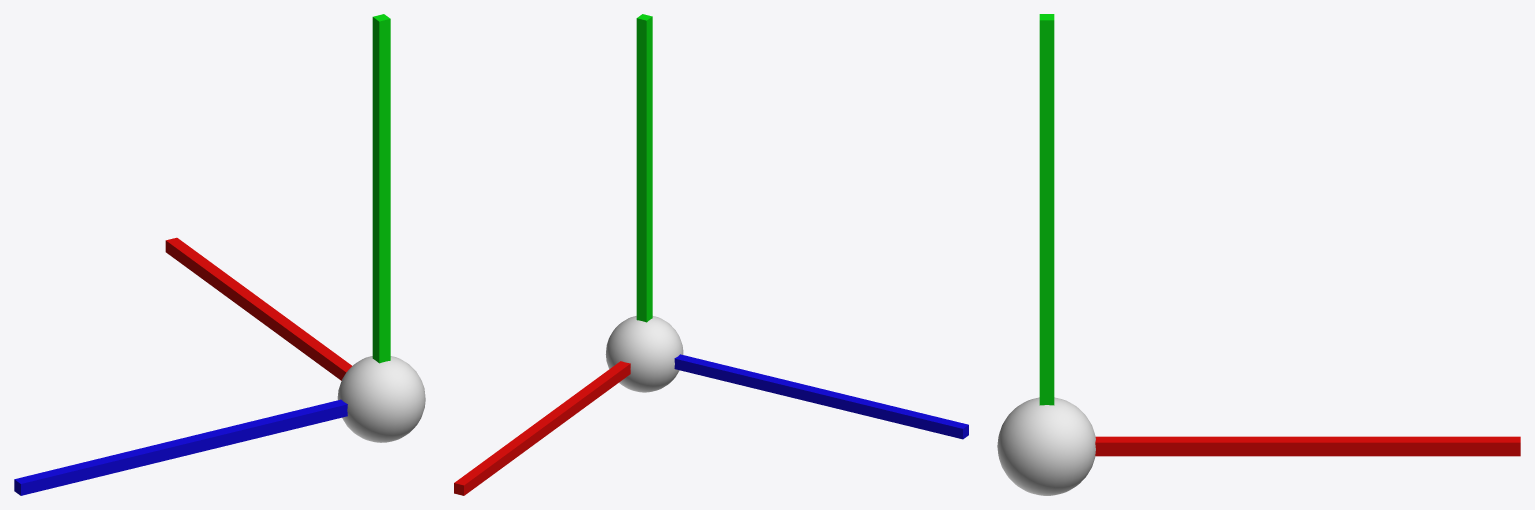
Rendered from visdiorama2.fbx.
3 renders of one model, left to right at view 1: azimuth 30°, elevation 25°; view 2: azimuth 150°, elevation 25°; view 3: azimuth 270°, elevation 25°, orthographic. The views are drawn at different scales.
Visible parts, largest first — view 1: Y-Axis, Z-Axis, Sphere, X-Axis; view 2: Y-Axis, Z-Axis, Sphere, X-Axis; view 3: X-Axis, Sphere, Y-Axis.
Part boxes in pixels (x1=…): Y-Axis: x1=372, y1=14, x2=390, y2=363; Z-Axis: x1=14, y1=399, x2=347, y2=495; Sphere: x1=337, y1=356, x2=425, y2=442; X-Axis: x1=165, y1=237, x2=351, y2=380; Y-Axis: x1=636, y1=14, x2=652, y2=322; Z-Axis: x1=674, y1=354, x2=968, y2=439; Sphere: x1=605, y1=316, x2=683, y2=392; X-Axis: x1=454, y1=361, x2=630, y2=495; X-Axis: x1=1095, y1=436, x2=1520, y2=456; Sphere: x1=997, y1=397, x2=1095, y2=495; Y-Axis: x1=1039, y1=14, x2=1054, y2=405.
Bounding box in the file's own units: 3.54 × 3.54 × 3.54.
